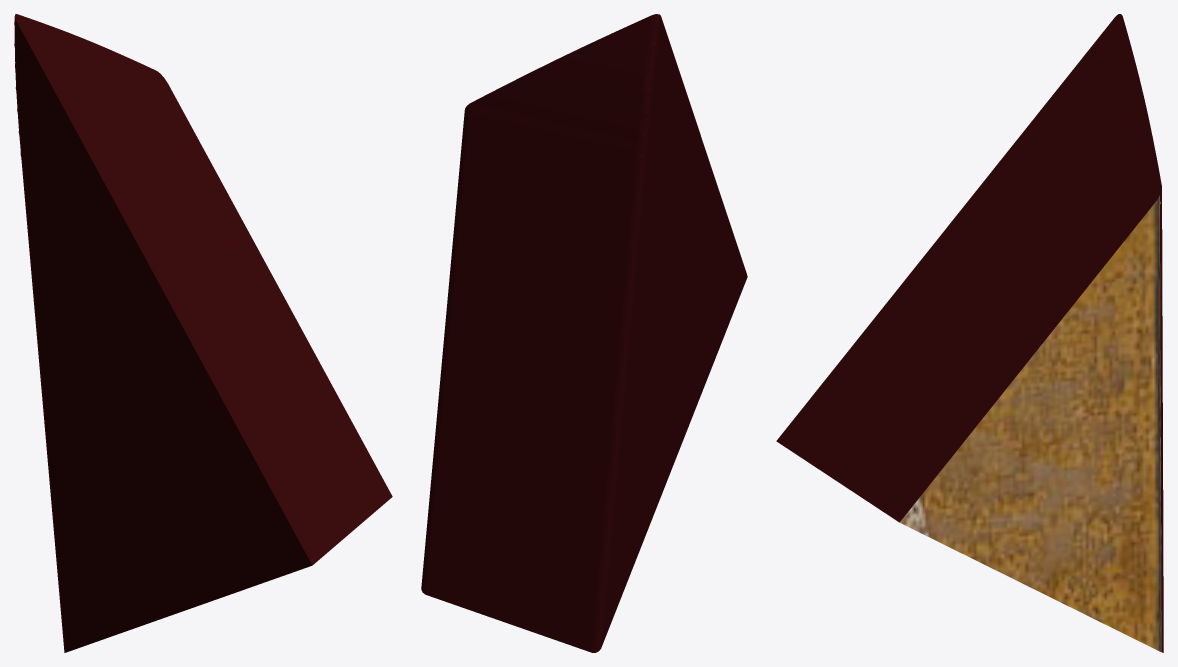
The model's file is piece5.glb.
3 views of the same model, side by side, from view 1: azimuth 30°, elevation 25°; view 2: azimuth 150°, elevation 25°; view 3: azimuth 270°, elevation 25° (orthographic). The views are drawn at different scales.
Parts seen in each view (by area): view 1: Cube_cell.005; view 2: Cube_cell.005; view 3: Cube_cell.005.
Boxes of the visible parts, x1,y1,x2,y2 form: Cube_cell.005: (14,14,392,652); Cube_cell.005: (421,14,747,652); Cube_cell.005: (776,14,1163,652).
Bounding box in the file's own units: 1.04 × 2.55 × 1.55.
Materials: 2 (1 with a texture image).
